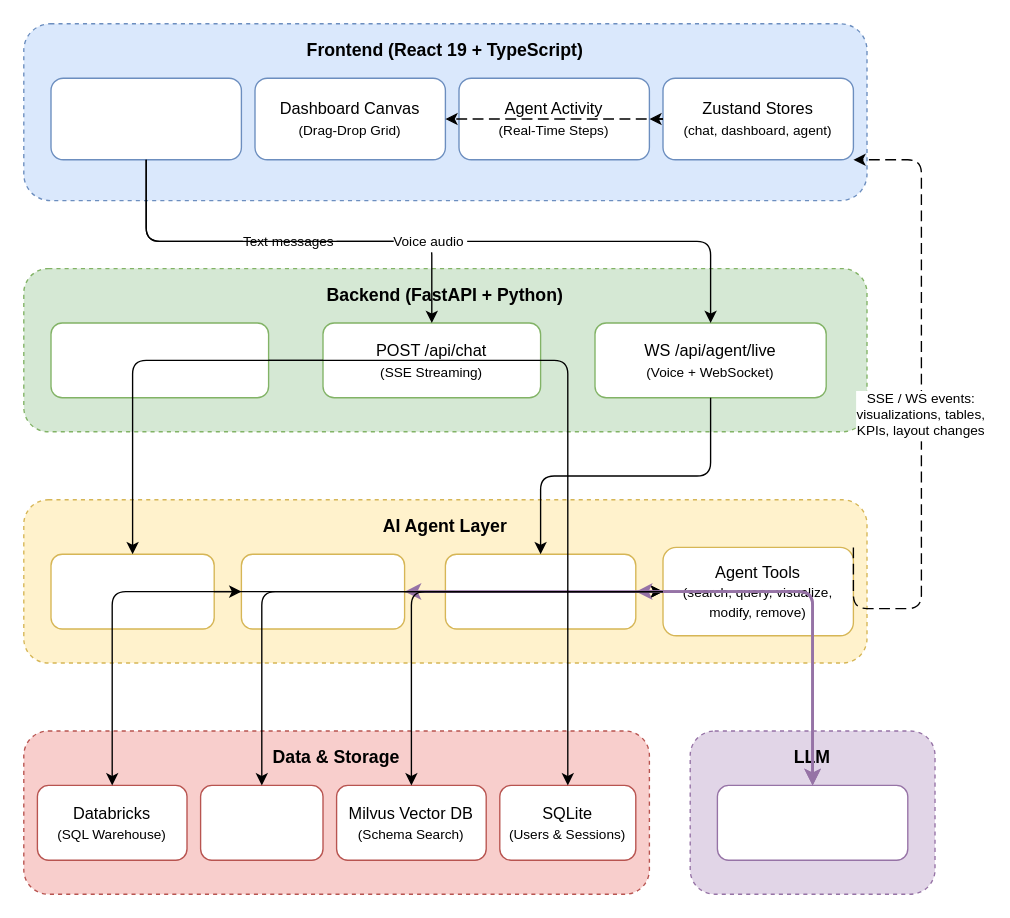
Some shapes in this 1010 by 918 pixel diagram are drawn without their labels. Each missing label, with the centre of its shape:
Chat Panel (Text & Voice Input): [145,118]
Google ADK Agent (Multimodal Live): [540,591]
Google BigQuery: [261,822]
Google Gemini (Vertex AI / API): [812,822]
Google OAuth 2.0 Session Management: [159,360]
Guardrail (Scope Check): [132,591]
LangGraph ReAct Agent: [322,591]
